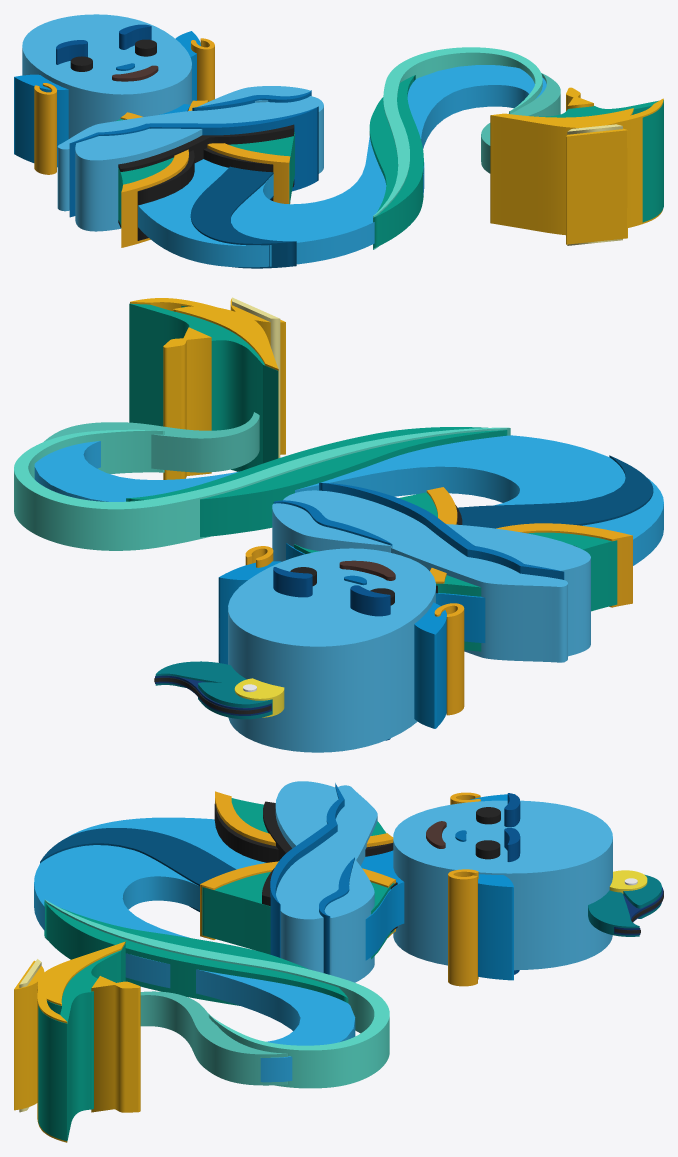
File: emoji_u1f9de_200d_2642.glb
3 renders of one model, top to bottom at view 1: azimuth 30°, elevation 25°; view 2: azimuth 150°, elevation 25°; view 3: azimuth 270°, elevation 25°, orthographic. The views are drawn at different scales.
Parts seen in each view (by area): view 1: emoji_u1f9de_200d_2642; view 2: emoji_u1f9de_200d_2642; view 3: emoji_u1f9de_200d_2642.
Boxes of the visible parts, <box> form: emoji_u1f9de_200d_2642: <box>14,14,663,268</box>; emoji_u1f9de_200d_2642: <box>14,297,663,752</box>; emoji_u1f9de_200d_2642: <box>14,781,663,1142</box>.
Bounding box in the file's own units: 0.0326 × 0.0076 × 0.0341.
